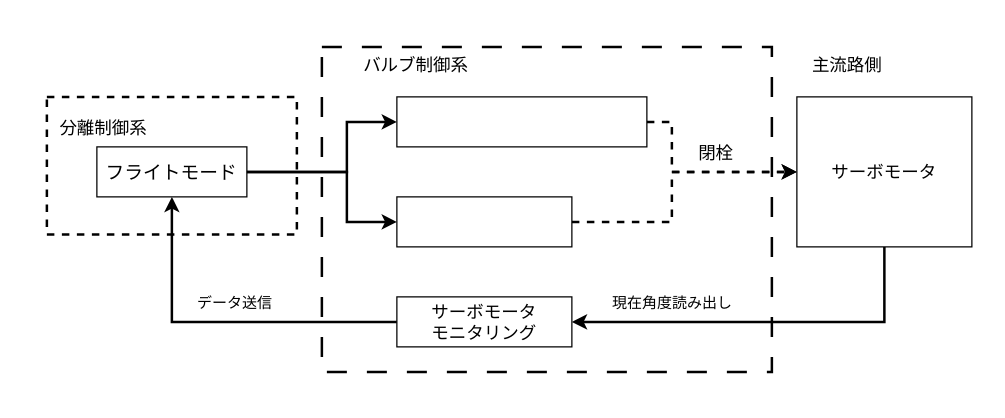
Some shapes in this 1005 by 418 pixel diagram are drawn without their labels. Each missing label, with the centre of its shape:
"フライトモード受信" belongs at (484,221).
"主流路側バルブ閉鎖タイマー" belongs at (521,121).
